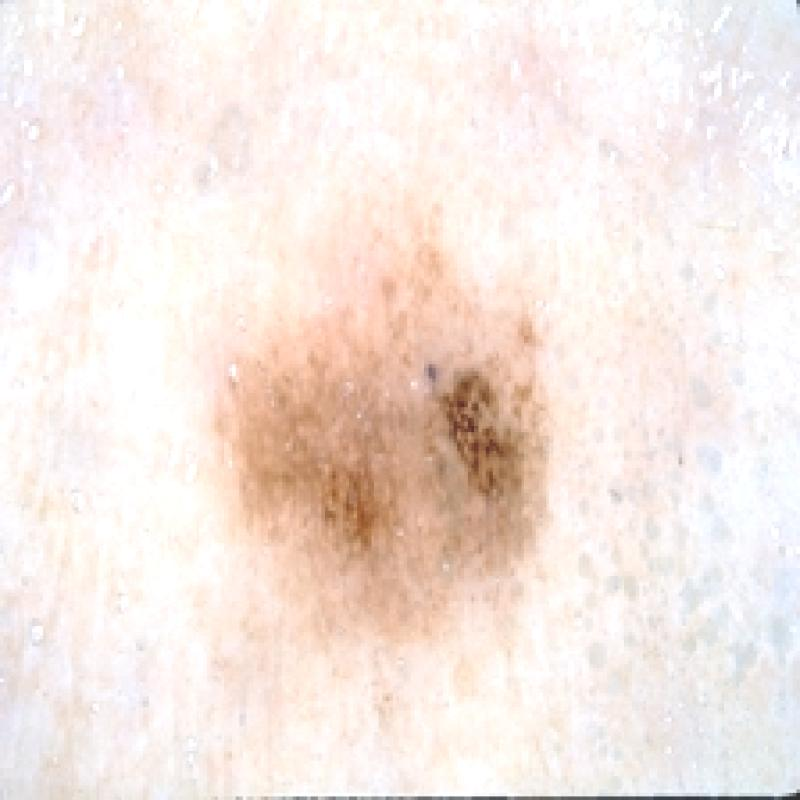malignant: (196, 259, 556, 646)
